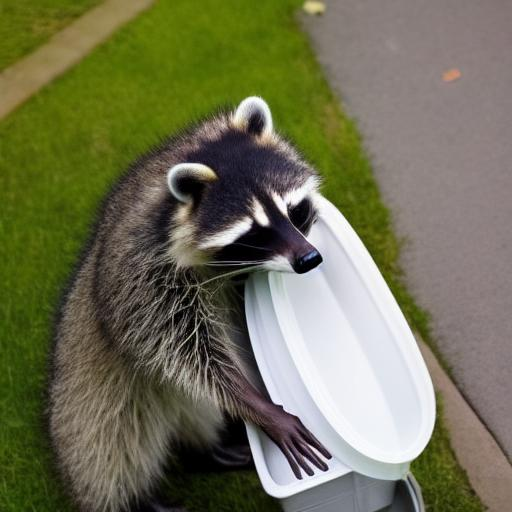raccoon: (43, 87, 331, 512)
